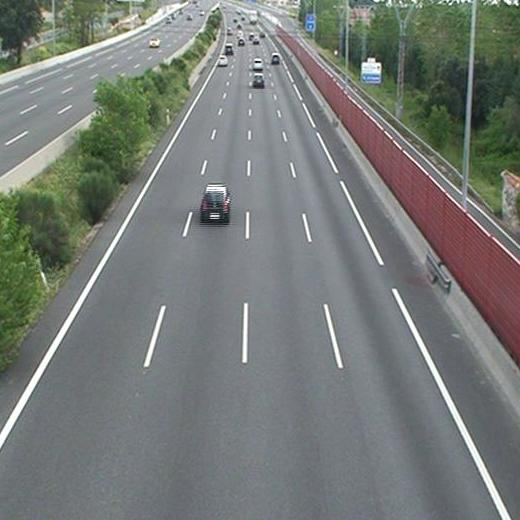car: (200, 186, 229, 219), (252, 58, 263, 69), (253, 74, 264, 85), (217, 56, 228, 66), (271, 53, 280, 64), (224, 43, 233, 53), (252, 35, 259, 45), (238, 37, 245, 45)
